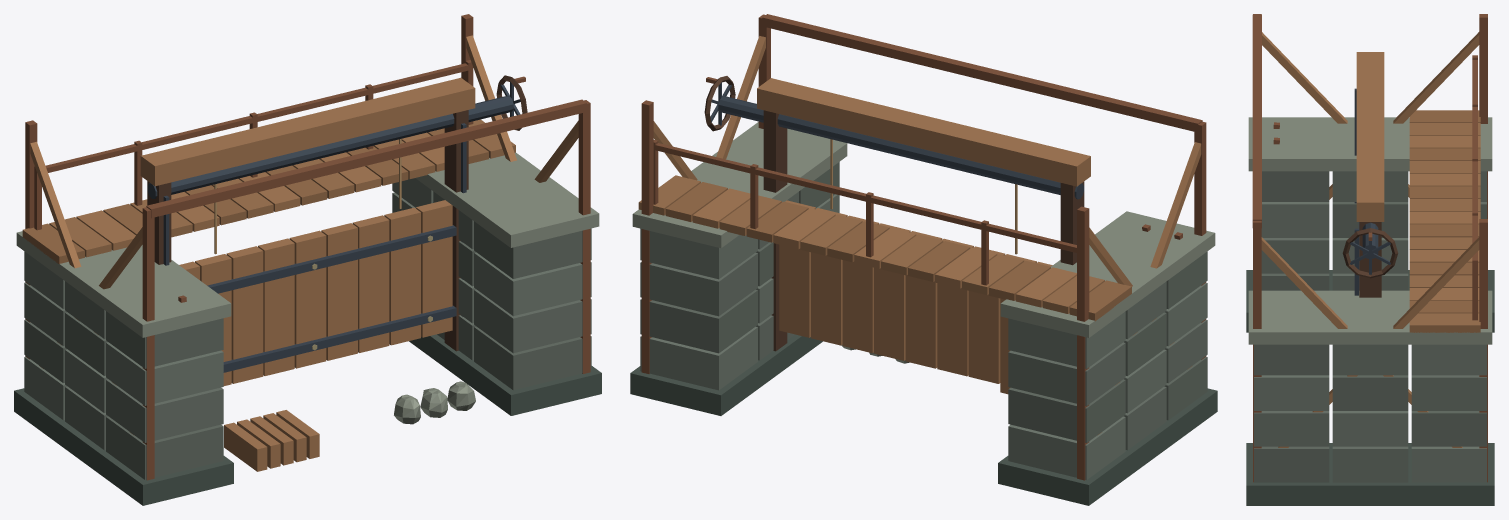
The model's file is sluice_scaffold.glb.
3 renders of one model, left to right at view 1: azimuth 30°, elevation 25°; view 2: azimuth 150°, elevation 25°; view 3: azimuth 270°, elevation 25°, orthographic. The views are drawn at different scales.
Parts seen in each view (by area): view 1: geometry, gate; view 2: geometry, gate; view 3: geometry.
Part boxes in pixels (x1=…): geometry: x1=14, y1=14, x2=601, y2=505; gate: x1=179, y1=200, x2=456, y2=385; geometry: x1=630, y1=14, x2=1217, y2=505; gate: x1=779, y1=200, x2=1052, y2=386; geometry: x1=1246, y1=14, x2=1494, y2=505.
Size of the model in its own units: 5.96 by 3.62 by 2.9.
